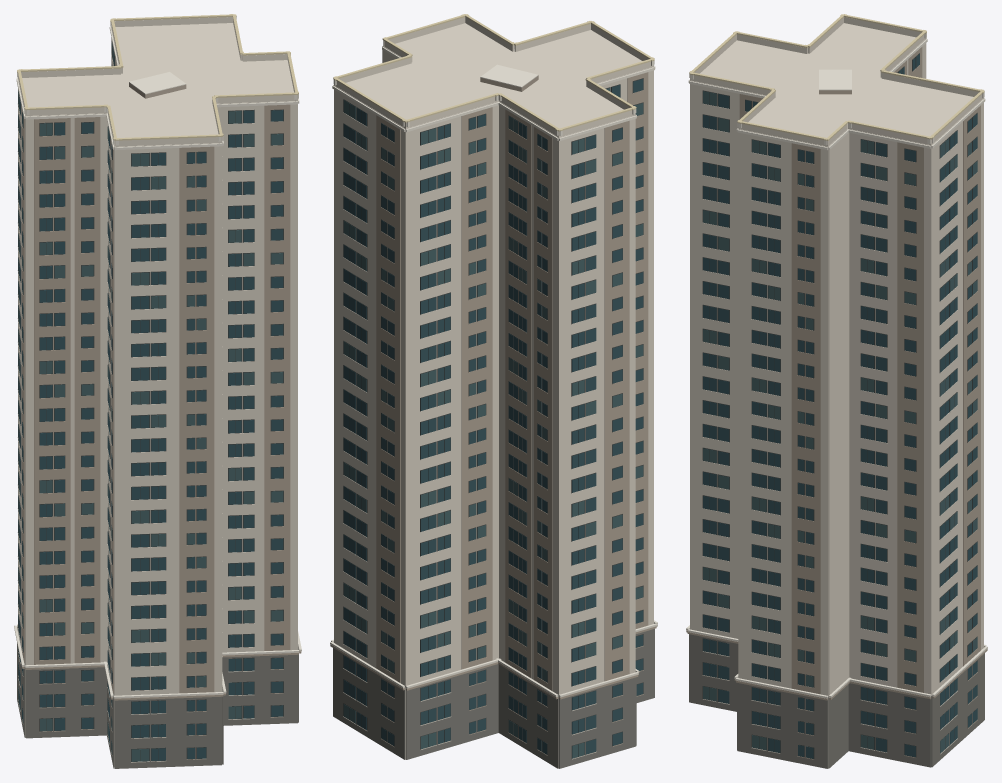
Rendered from bespoke-raemian-prestige-103.glb.
3 views of the same model, side by side, from view 1: azimuth 30°, elevation 25°; view 2: azimuth 150°, elevation 25°; view 3: azimuth 270°, elevation 25° (orthographic).
Parts seen in each view (by area): view 1: Prestige_warm_ivory_rendered_wall008, Prestige_wide_taupe_pilasters008, Prestige_recessed_blue_green_window008, Prestige_dark_bronze_thin_window_frame008, Prestige_dark_brown_grey_stone_base008, Prestige_muted_green_window_pair008, Prestige_pale_limestone_band008, Prestige_cream_gold_crown_coping008; view 2: Prestige_warm_ivory_rendered_wall008, Prestige_wide_taupe_pilasters008, Prestige_recessed_blue_green_window008, Prestige_dark_bronze_thin_window_frame008, Prestige_dark_brown_grey_stone_base008, Prestige_muted_green_window_pair008, Prestige_pale_limestone_band008, Prestige_cream_gold_crown_coping008; view 3: Prestige_warm_ivory_rendered_wall008, Prestige_recessed_blue_green_window008, Prestige_wide_taupe_pilasters008, Prestige_dark_bronze_thin_window_frame008, Prestige_dark_brown_grey_stone_base008, Prestige_muted_green_window_pair008, Prestige_pale_limestone_band008, Prestige_cream_gold_crown_coping008.
Part boxes in pixels (x1,y1,x2,y2): Prestige_warm_ivory_rendered_wall008: (17, 17, 297, 766); Prestige_wide_taupe_pilasters008: (17, 63, 301, 759); Prestige_recessed_blue_green_window008: (18, 50, 283, 761); Prestige_dark_bronze_thin_window_frame008: (18, 41, 283, 761); Prestige_dark_brown_grey_stone_base008: (17, 627, 298, 768); Prestige_muted_green_window_pair008: (18, 42, 283, 761); Prestige_pale_limestone_band008: (14, 17, 301, 698); Prestige_cream_gold_crown_coping008: (17, 14, 298, 140); Prestige_warm_ivory_rendered_wall008: (334, 17, 653, 768); Prestige_wide_taupe_pilasters008: (330, 72, 657, 755); Prestige_recessed_blue_green_window008: (343, 79, 643, 754); Prestige_dark_bronze_thin_window_frame008: (343, 78, 643, 758); Prestige_dark_brown_grey_stone_base008: (333, 629, 654, 768); Prestige_muted_green_window_pair008: (343, 88, 643, 758); Prestige_pale_limestone_band008: (330, 45, 657, 697); Prestige_cream_gold_crown_coping008: (333, 14, 654, 131); Prestige_warm_ivory_rendered_wall008: (690, 17, 983, 768); Prestige_recessed_blue_green_window008: (703, 54, 977, 758); Prestige_wide_taupe_pilasters008: (686, 47, 987, 759); Prestige_dark_bronze_thin_window_frame008: (702, 53, 977, 759); Prestige_dark_brown_grey_stone_base008: (689, 634, 984, 768); Prestige_muted_green_window_pair008: (703, 91, 977, 753); Prestige_pale_limestone_band008: (686, 33, 987, 698); Prestige_cream_gold_crown_coping008: (689, 14, 984, 140).
Bounding box in the file's own units: 32.22 × 73.7 × 32.04.
